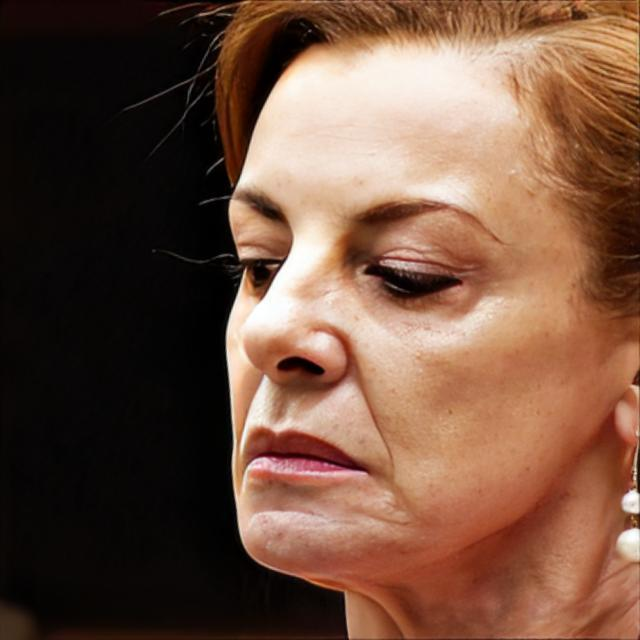disgust: (221, 23, 613, 580)
